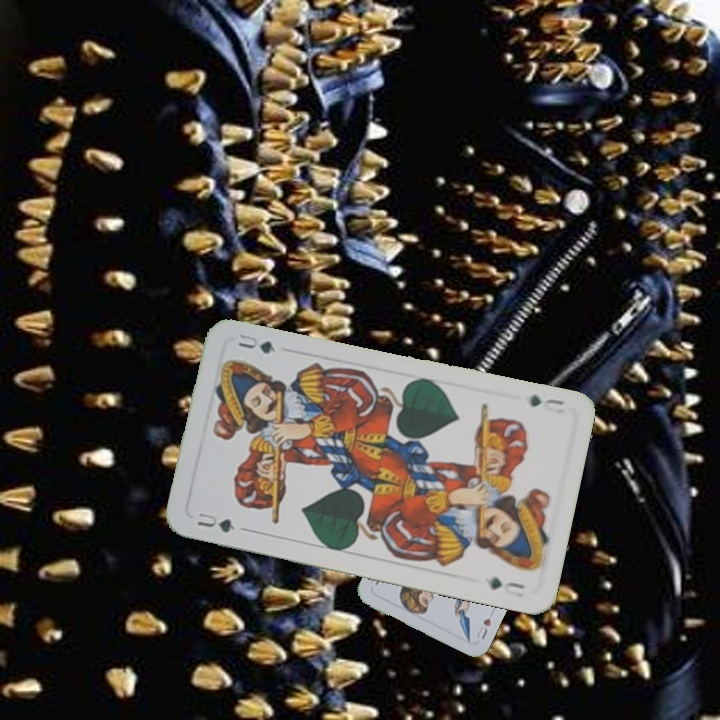GU: (193, 508, 238, 535), (526, 390, 567, 410)
HU: (472, 614, 494, 642)
